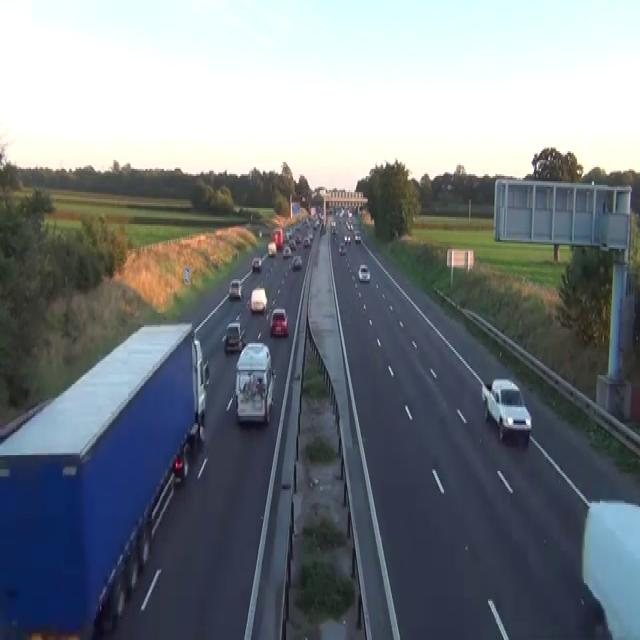Car: (581, 498, 639, 638), (481, 377, 532, 443), (0, 396, 54, 446), (191, 336, 210, 425), (221, 322, 245, 354), (172, 441, 189, 483), (269, 308, 288, 336), (249, 288, 267, 313), (228, 277, 242, 299), (358, 263, 370, 281), (251, 256, 261, 272), (291, 254, 302, 268), (267, 242, 276, 256), (282, 245, 291, 258), (338, 242, 346, 254), (319, 222, 326, 235), (302, 237, 310, 247), (345, 219, 353, 229), (354, 231, 361, 242), (288, 238, 295, 249), (344, 233, 351, 243), (331, 220, 336, 233), (313, 219, 319, 229), (295, 233, 301, 243), (285, 230, 292, 238), (307, 230, 313, 238), (347, 210, 352, 217), (258, 230, 262, 237)
Truck: (0, 320, 210, 638), (234, 341, 275, 425), (272, 227, 283, 249)
